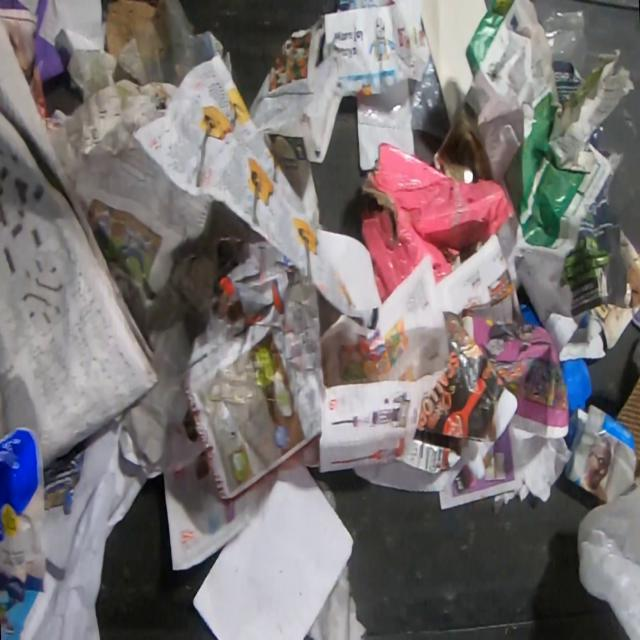cardboard: (360, 142, 517, 304), (105, 0, 163, 85), (613, 371, 639, 486)
rigid_plastic: (559, 357, 594, 419), (519, 302, 545, 328)
soft_plastic: (576, 482, 640, 639), (356, 56, 450, 141), (539, 7, 588, 80)
